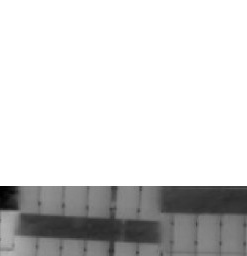solar: (169, 212, 199, 254), (195, 212, 225, 254), (217, 212, 247, 254)
